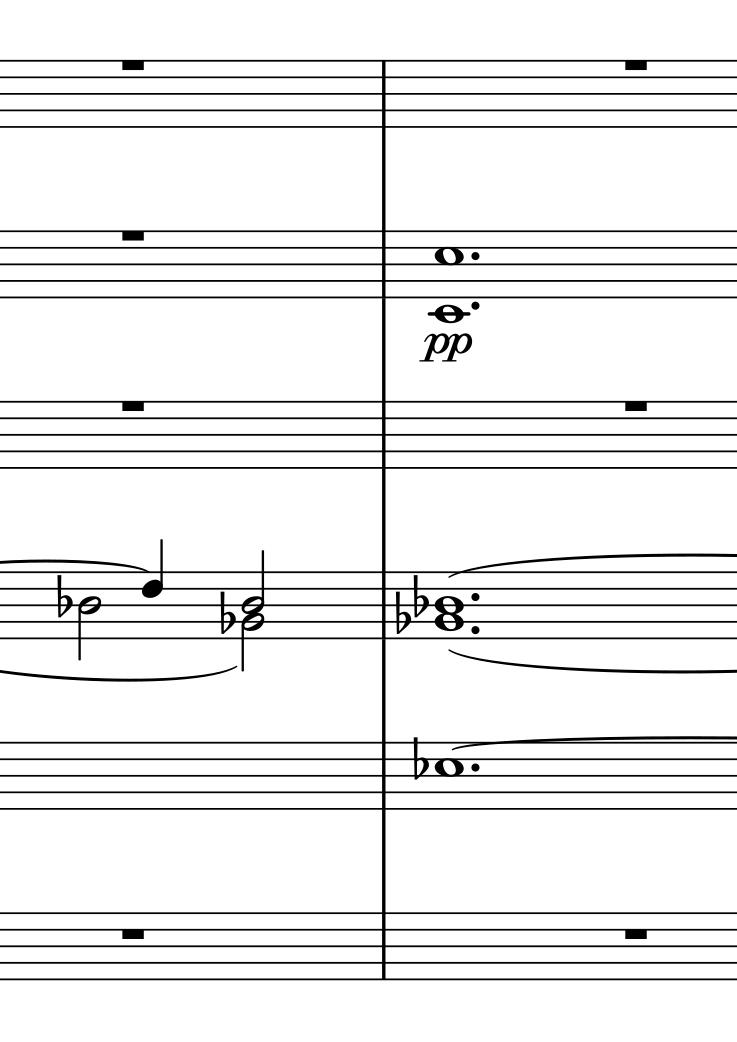1_-2_5: (427, 229, 472, 324)
1_2_4: (431, 570, 465, 641)
1_5: (433, 741, 465, 812)
2_2_4: (241, 551, 265, 670)
2_4: (78, 569, 102, 667)
4_6: (138, 536, 167, 644)
Flat: (218, 589, 237, 639), (410, 730, 428, 782), (56, 574, 75, 619)
Rests1: (118, 223, 148, 248), (620, 56, 656, 76), (622, 396, 654, 418), (116, 56, 146, 75), (621, 926, 651, 944), (120, 924, 147, 943), (117, 396, 148, 411)
Single_barline: (372, 572, 393, 639), (373, 402, 393, 468), (373, 61, 393, 126), (374, 913, 393, 981), (374, 742, 393, 810), (374, 230, 393, 297)
dot: (468, 589, 483, 604), (469, 298, 483, 313), (468, 761, 483, 775), (470, 249, 481, 262), (469, 624, 478, 636)
pp: (419, 333, 473, 364)
